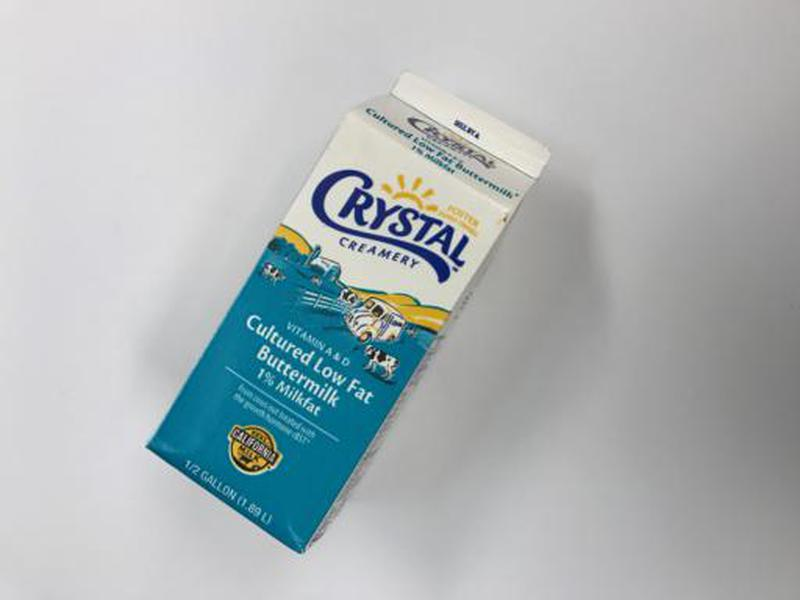cardboard: (136, 74, 557, 555)
